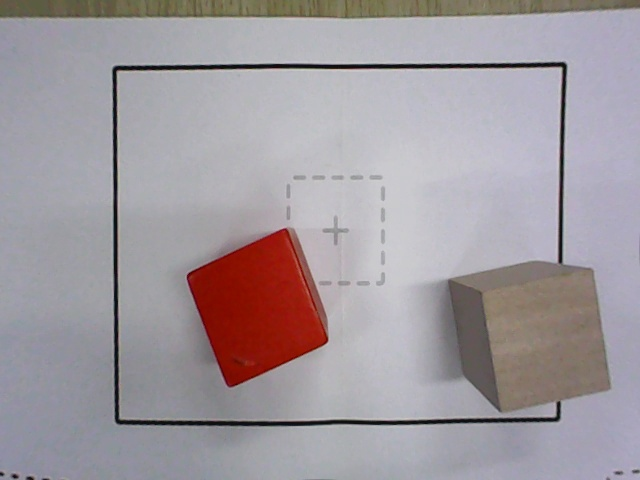upside of big cube: (186, 228, 328, 388), (480, 268, 610, 412)
